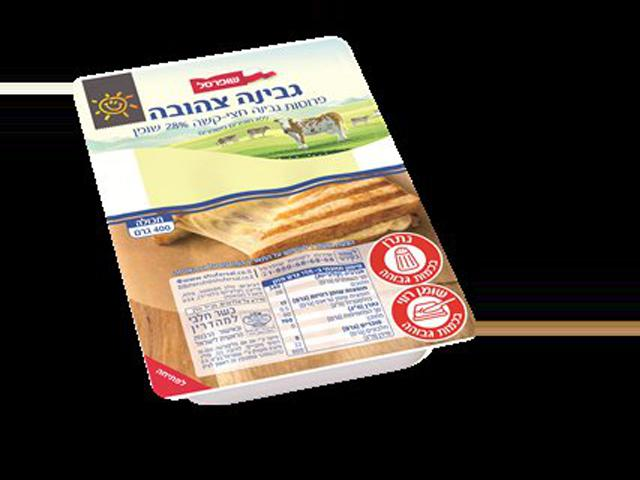cheese: (105, 38, 414, 396)
